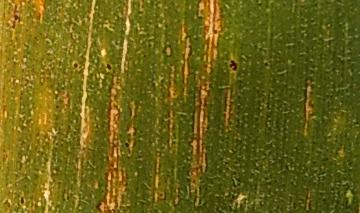tarspot: (102, 59, 115, 74), (228, 55, 239, 72), (71, 57, 80, 73), (121, 138, 132, 151), (17, 194, 28, 206), (260, 57, 271, 69)
